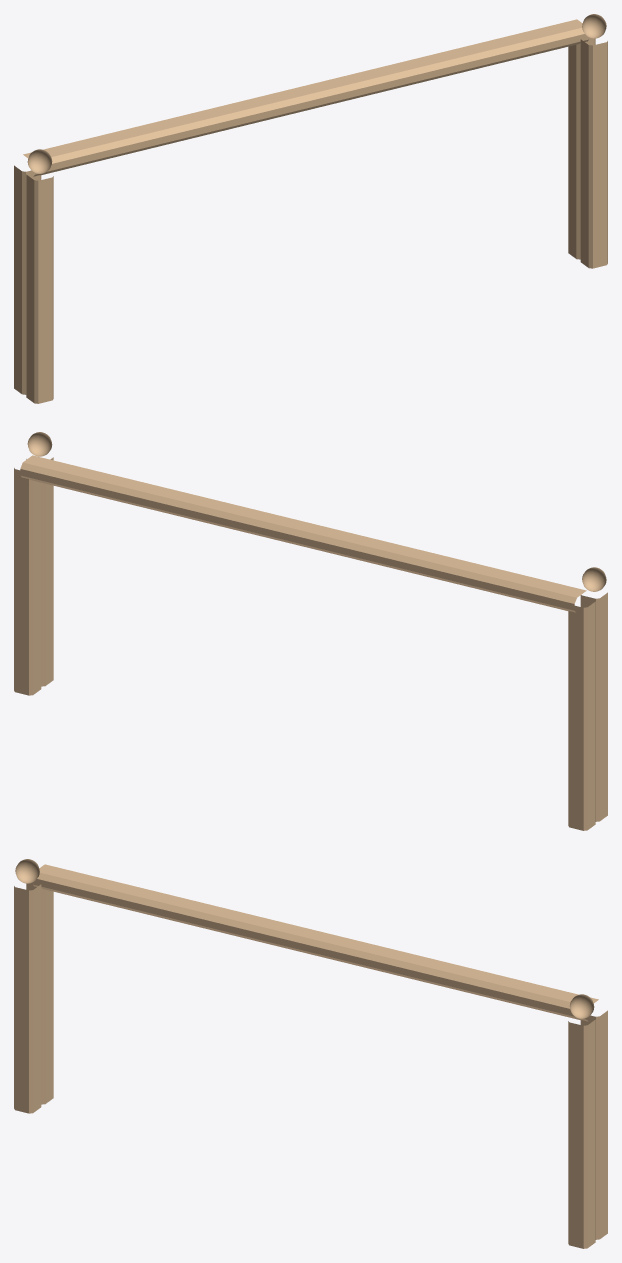
The model's file is lotprop__lot_church_nave_pew_cap.glb.
The picture shows the model from 3 angles, top to bottom: view 1: azimuth 30°, elevation 25°; view 2: azimuth 150°, elevation 25°; view 3: azimuth 330°, elevation 25°; orthographic projection.
Visible parts, largest first — view 1: lotprop__lot_church_nave_pew_cap; view 2: lotprop__lot_church_nave_pew_cap; view 3: lotprop__lot_church_nave_pew_cap.
Boxes of the visible parts, <box> form: lotprop__lot_church_nave_pew_cap: <box>14,14,607,403</box>; lotprop__lot_church_nave_pew_cap: <box>14,432,607,830</box>; lotprop__lot_church_nave_pew_cap: <box>14,859,607,1248</box>.
Size of the model in its own units: 2.7 by 1.11 by 0.2087.
